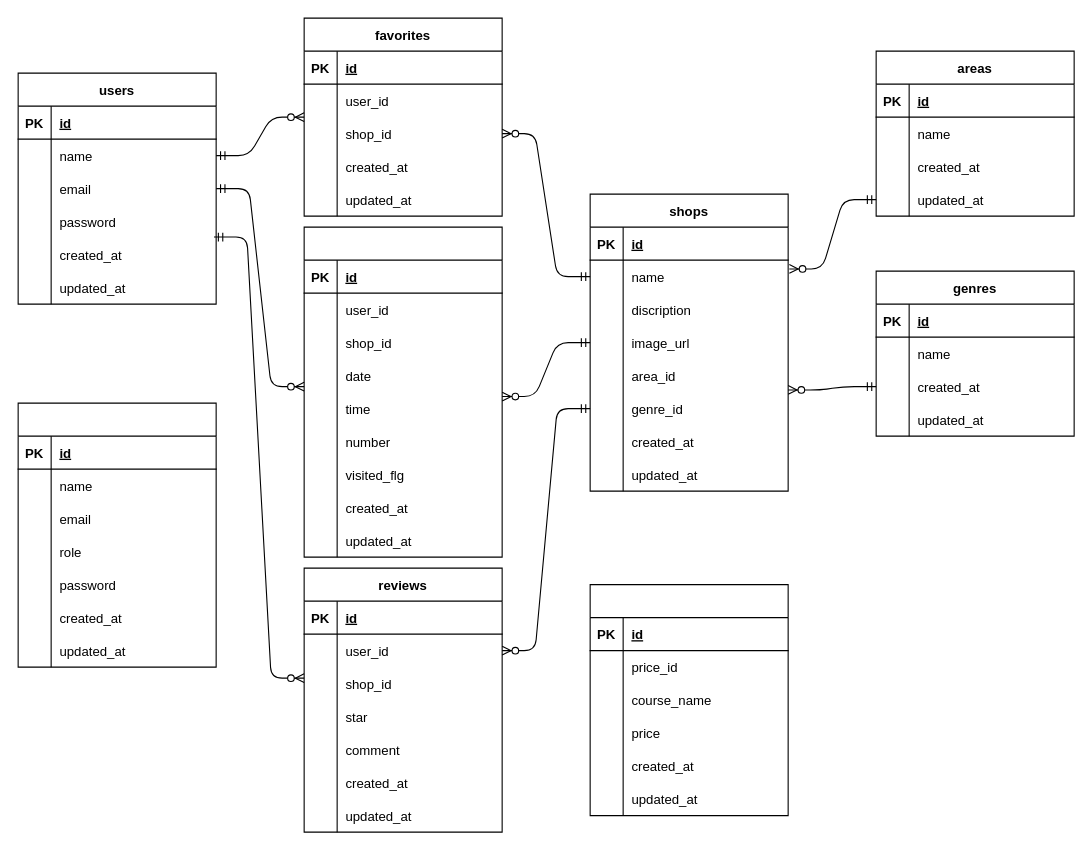
This 1092x850 diagram has some shape labels left out. The shapes that lost their labels are listed below. From the top down, each one's box as (x1, y1, x2, y2) in pixels, then its label:
(303, 226, 502, 557): reservations
(17, 402, 216, 667): admins
(589, 584, 788, 816): stocks
